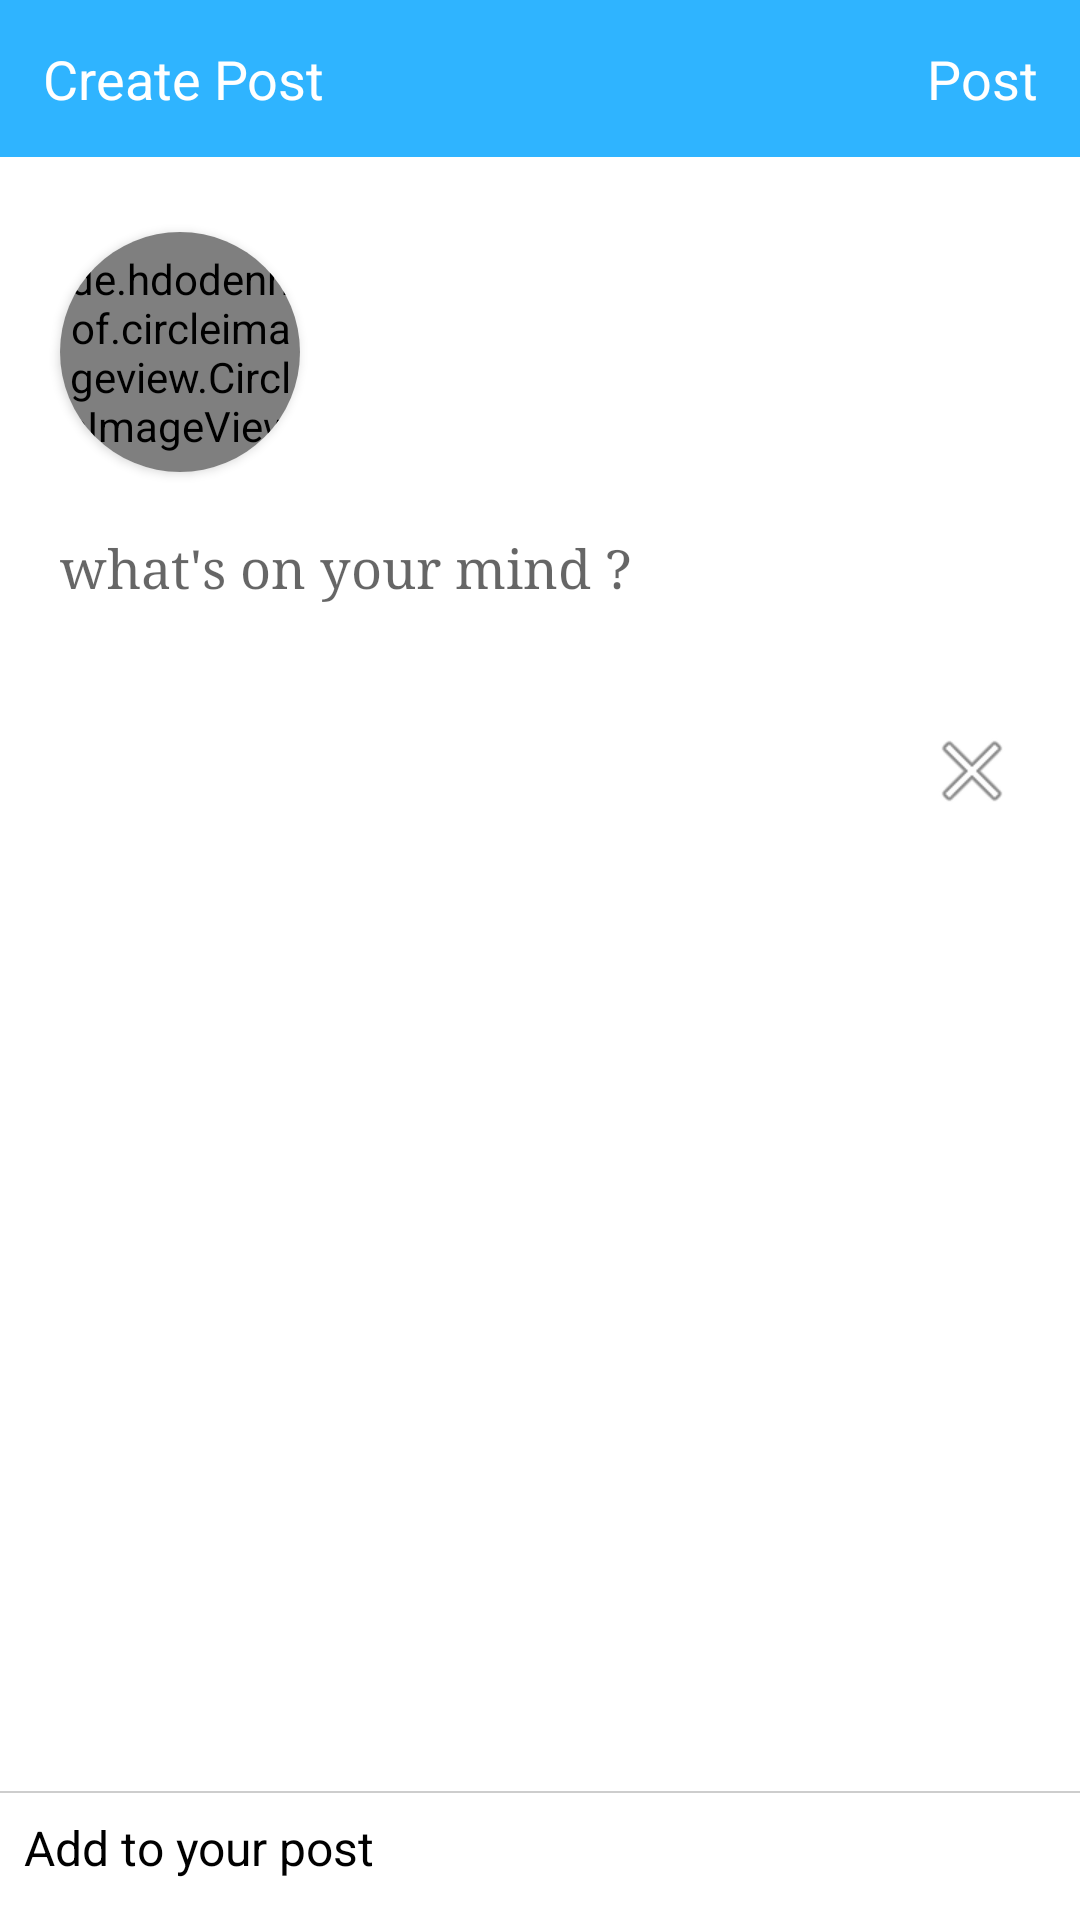

Where to tap for icons on this 1080px×1920px app screen, as point (x, y):
close clear cancel: point (972, 771)
